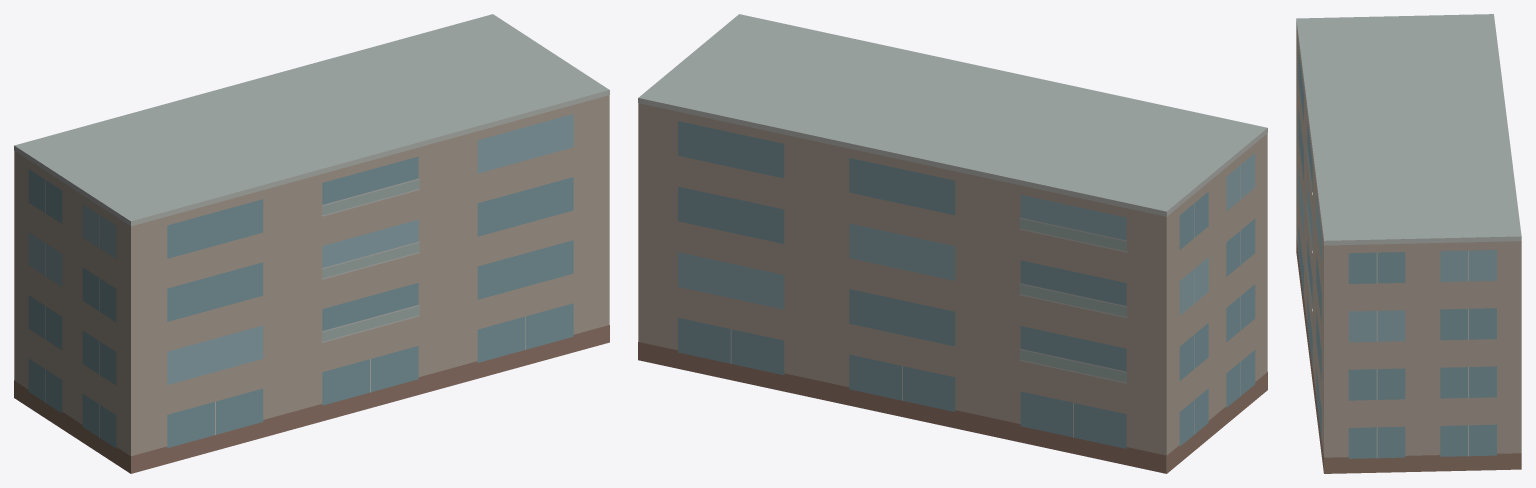
File: residential-02e44eb8-26a8-4c7d-b505-ebdf60d342d8.glb
3 views of the same model, side by side, from view 1: azimuth 30°, elevation 25°; view 2: azimuth 150°, elevation 25°; view 3: azimuth 270°, elevation 25° (orthographic). The views are drawn at different scales.
Parts seen in each view (by area): view 1: residential-02e44eb8-26a8-4c7d-b505-ebdf60d342d8.tmp; view 2: residential-02e44eb8-26a8-4c7d-b505-ebdf60d342d8.tmp; view 3: residential-02e44eb8-26a8-4c7d-b505-ebdf60d342d8.tmp.
Boxes of the visible parts, <box> form: residential-02e44eb8-26a8-4c7d-b505-ebdf60d342d8.tmp: <box>14,14,609,473</box>; residential-02e44eb8-26a8-4c7d-b505-ebdf60d342d8.tmp: <box>638,14,1267,473</box>; residential-02e44eb8-26a8-4c7d-b505-ebdf60d342d8.tmp: <box>1296,14,1521,473</box>.
Size of the model in its own units: 25.48 by 12.2 by 10.7.
